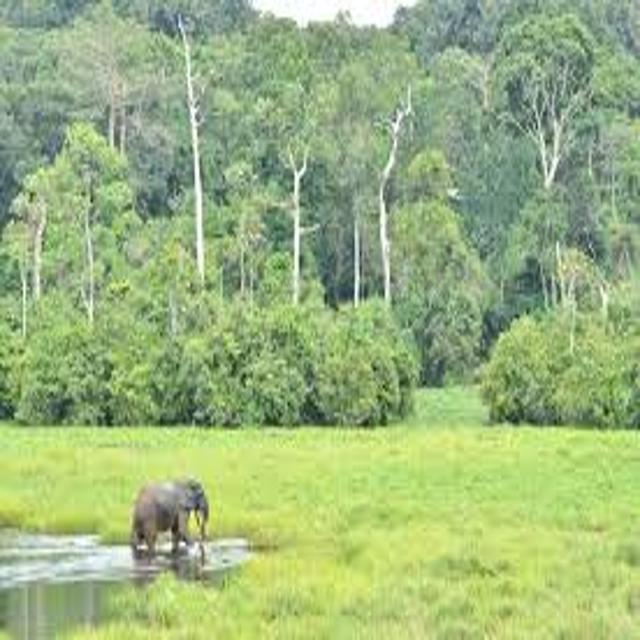elephant: (99, 450, 246, 598)
